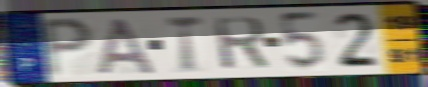2: (331, 11, 380, 69)
5: (276, 9, 327, 74)
A: (95, 16, 159, 76)
P: (39, 16, 97, 80)
R: (211, 15, 272, 72)
T: (164, 13, 206, 75)
